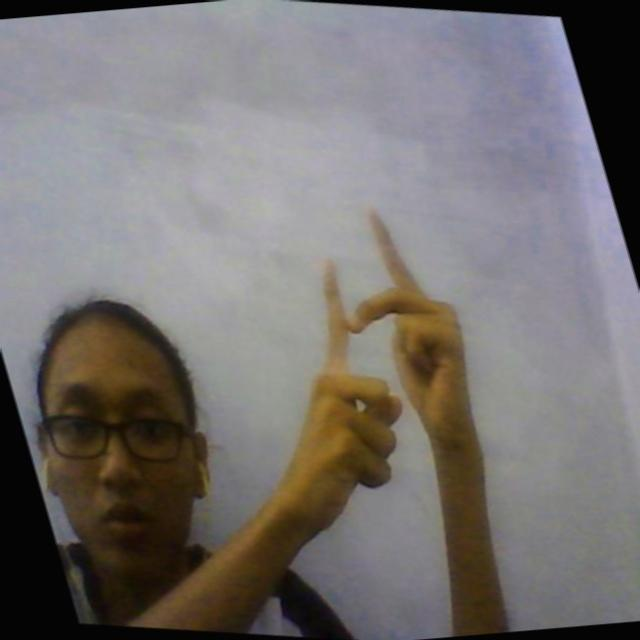H: (283, 193, 480, 463)
